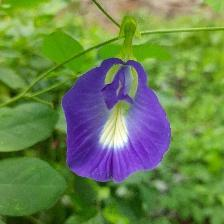shankupushpam: (62, 18, 174, 186)
